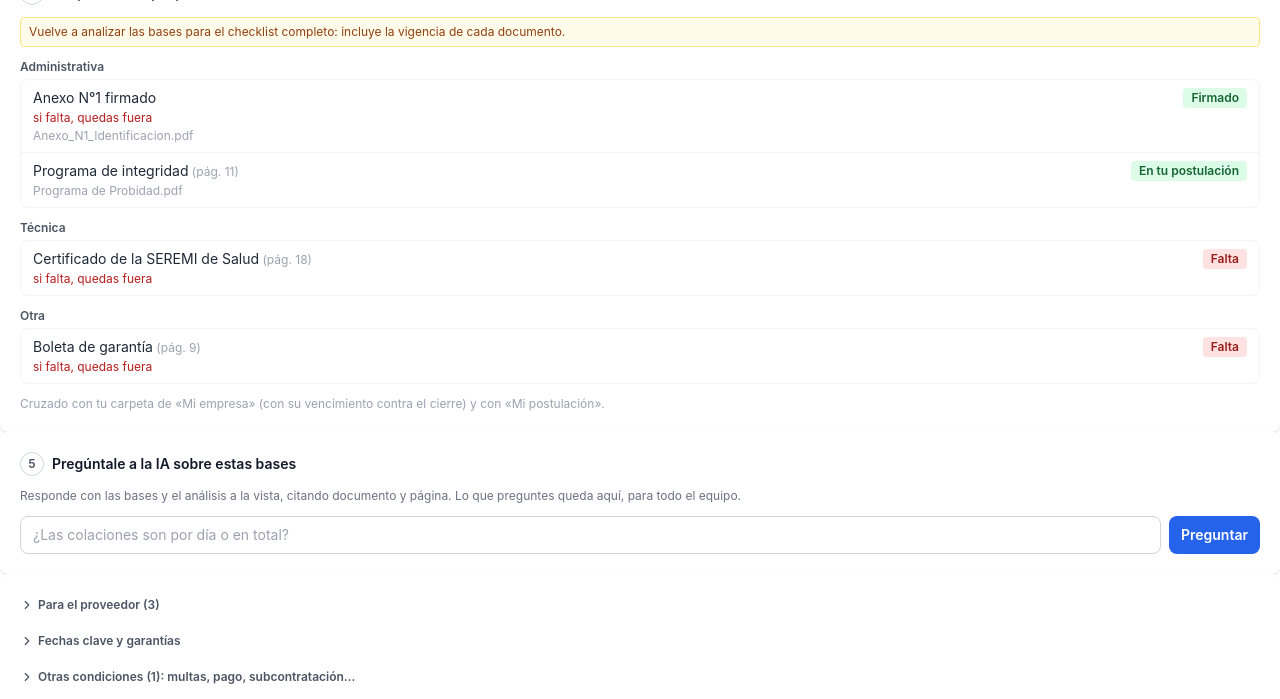
Test: Lo que tienes que ofrecer (las exigencias) › postulada antes de «Armar postulación»: el pedido al proveedor sale de los anexos (26-10)
(page scrolled)
What coordinates should you click on to do the following:
click the button "Para el proveedor (3)"
I would click on:
 (90, 605)
Its box is [20,597,160,613].
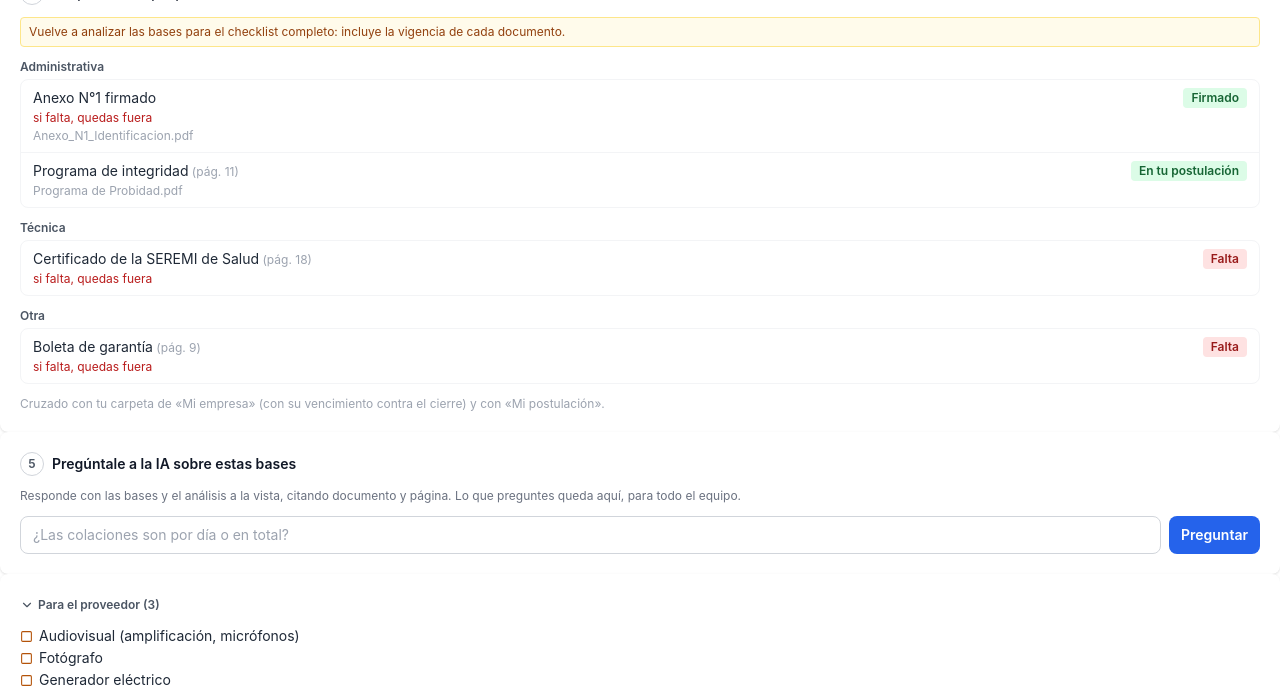
Result: the list item "Audiovisual (amplificación, micrófonos)" is shown at [20,627,300,644]
Result: the list item "Generador eléctrico" is shown at [20,671,171,688]
